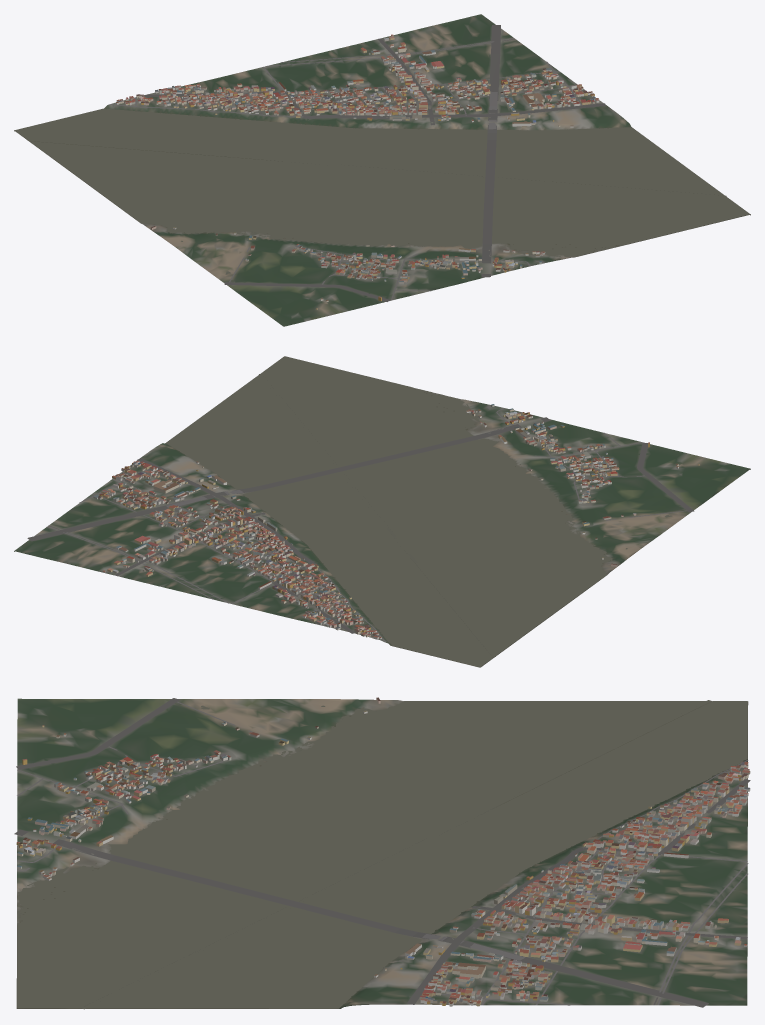
The picture shows the model from 3 angles, top to bottom: view 1: azimuth 30°, elevation 25°; view 2: azimuth 150°, elevation 25°; view 3: azimuth 270°, elevation 25°; orthographic projection. The views are drawn at different scales.
Visible parts, largest first — view 1: water, ground, buildings, roads; view 2: water, ground, buildings, roads; view 3: water, ground, buildings, roads.
Boxes of the visible parts, bbox=[...] form: water: bbox=[15, 108, 749, 274]; ground: bbox=[14, 14, 750, 326]; buildings: bbox=[116, 34, 599, 309]; roads: bbox=[109, 25, 605, 301]; water: bbox=[166, 356, 672, 667]; ground: bbox=[14, 358, 750, 667]; buildings: bbox=[93, 404, 699, 639]; roads: bbox=[27, 405, 694, 641]; water: bbox=[17, 700, 747, 1009]; ground: bbox=[16, 698, 748, 1008]; buildings: bbox=[16, 697, 750, 1006]; roads: bbox=[14, 698, 750, 1007].
Size of the model in its own units: 1415 by 28.16 by 1414.
